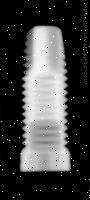Nobel Biocare: (17, 23, 71, 171)
